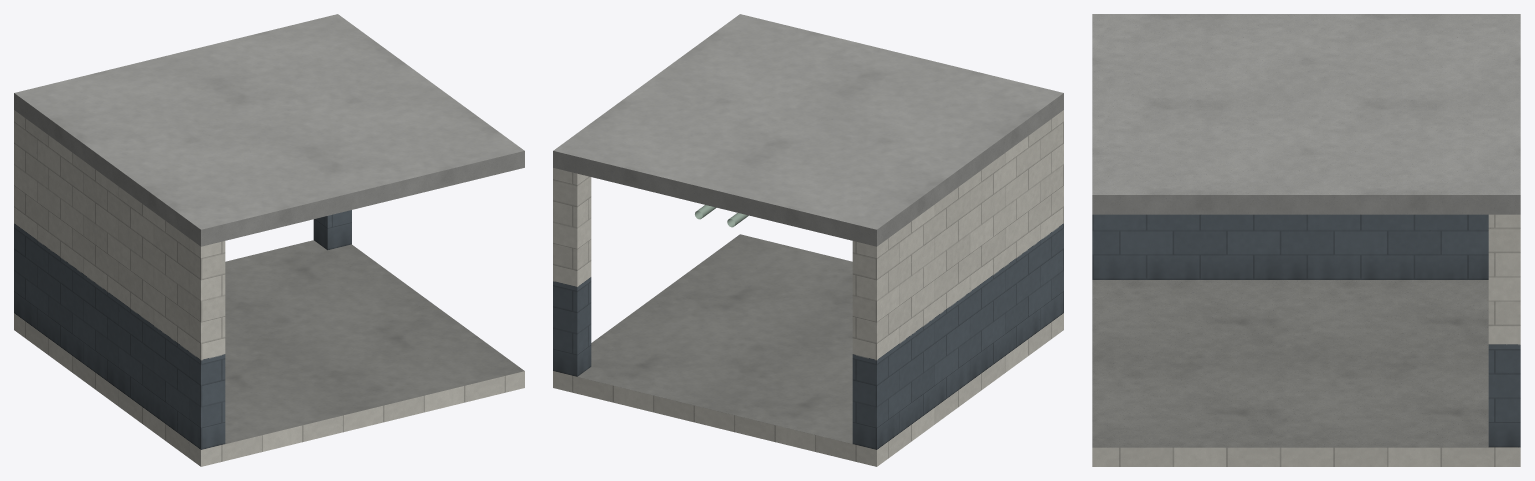
The model's file is Room_Basement_OpeningCornerL_NoLight.glb.
3 renders of one model, left to right at view 1: azimuth 30°, elevation 25°; view 2: azimuth 150°, elevation 25°; view 3: azimuth 270°, elevation 25°, orthographic. The views are drawn at different scales.
Parts seen in each view (by area): view 1: Room_Basement_OpeningCornerL_NoLight, Room_Basement_OpeningCornerL_NoLight_Ceiling; view 2: Room_Basement_OpeningCornerL_NoLight, Room_Basement_OpeningCornerL_NoLight_Ceiling; view 3: Room_Basement_OpeningCornerL_NoLight, Room_Basement_OpeningCornerL_NoLight_Ceiling.
Part boxes in pixels (box(x1,y1,x2,y2)): Room_Basement_OpeningCornerL_NoLight: box(14, 110, 524, 466); Room_Basement_OpeningCornerL_NoLight_Ceiling: box(14, 14, 524, 246); Room_Basement_OpeningCornerL_NoLight: box(553, 110, 1063, 466); Room_Basement_OpeningCornerL_NoLight_Ceiling: box(553, 14, 1063, 246); Room_Basement_OpeningCornerL_NoLight: box(1092, 214, 1520, 466); Room_Basement_OpeningCornerL_NoLight_Ceiling: box(1092, 14, 1520, 214).
Bounding box in the file's own units: 4 × 2.8 × 4.
Materials: 5 (3 with a texture image).
